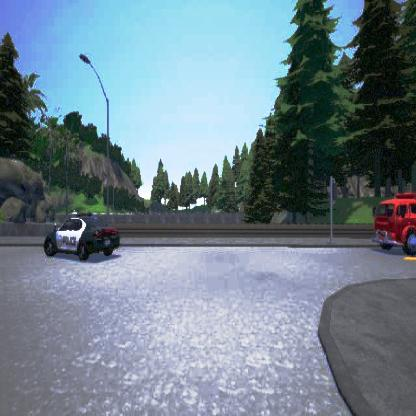vehicle: (43, 209, 119, 260), (371, 192, 415, 255)
